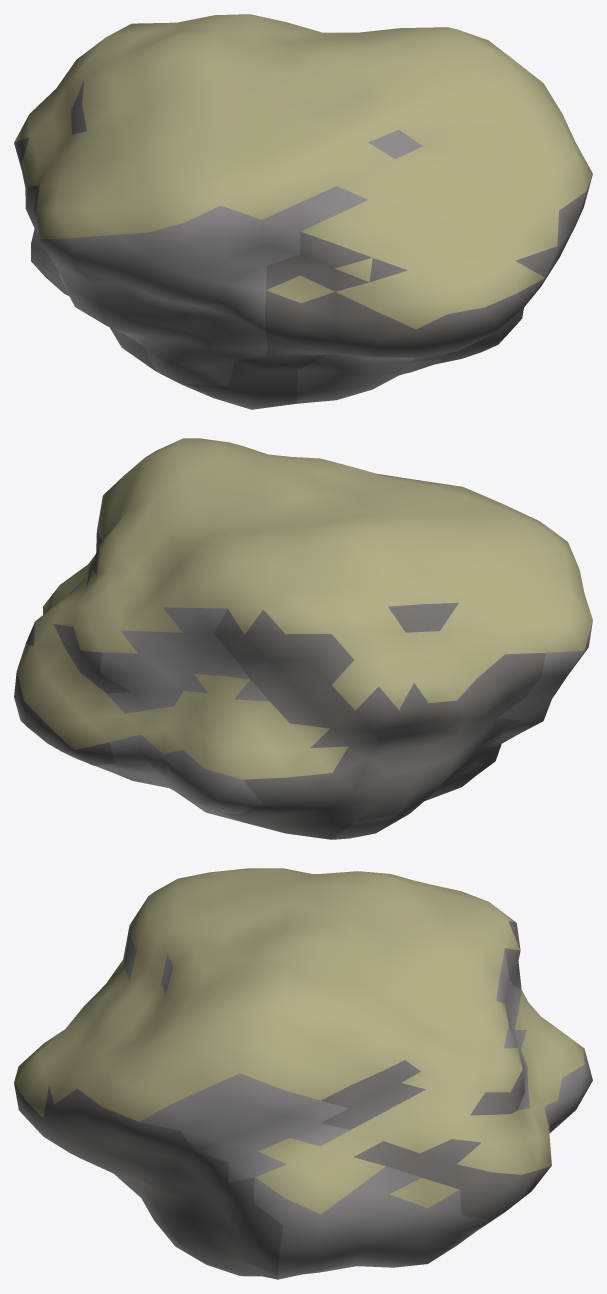
The model's file is lichen_rock_1.glb.
3 renders of one model, top to bottom at view 1: azimuth 30°, elevation 25°; view 2: azimuth 150°, elevation 25°; view 3: azimuth 270°, elevation 25°, orthographic. The views are drawn at different scales.
Parts seen in each view (by area): view 1: lichen_rock_1; view 2: lichen_rock_1; view 3: lichen_rock_1.
Part boxes in pixels (box(x1,y1,x2,y2)): lichen_rock_1: box(14, 14, 592, 409); lichen_rock_1: box(14, 438, 592, 839); lichen_rock_1: box(14, 868, 592, 1279).
Size of the model in its own units: 1.71 by 0.9849 by 1.67.
